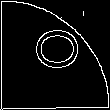O_W: (29, 34, 81, 76)
